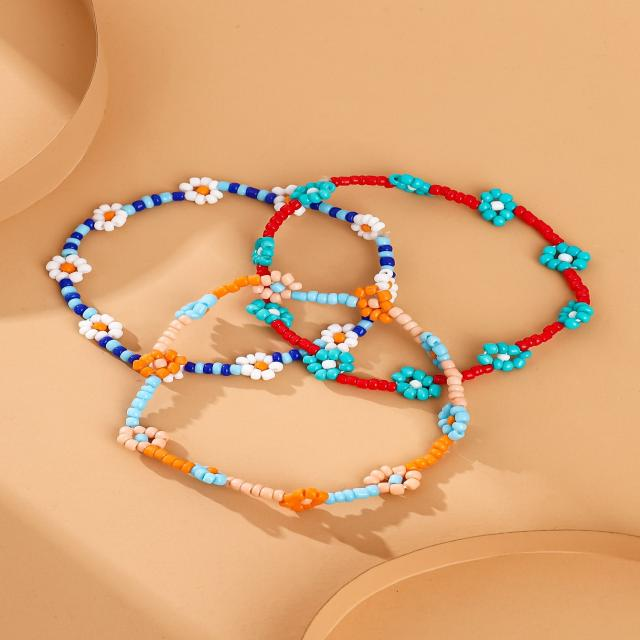bracelet: (3, 92, 640, 587)
